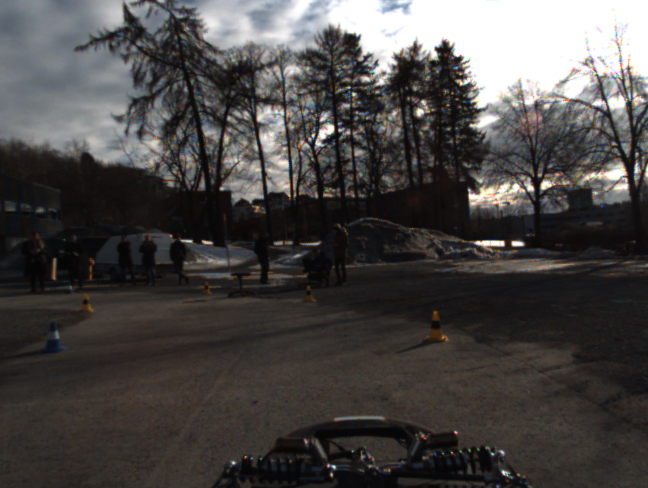cone-small-blue: (41, 320, 66, 351), (64, 283, 74, 295)
cone-small-yellow: (423, 311, 447, 342), (77, 293, 92, 315), (302, 286, 315, 304), (201, 281, 210, 294)
